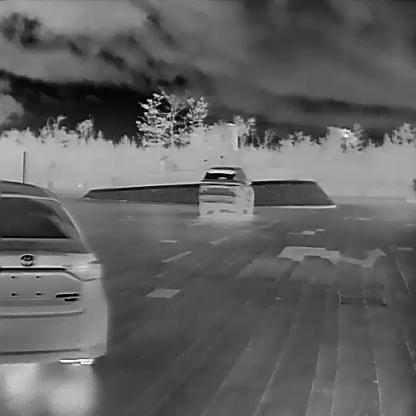car: (0, 179, 107, 364), (196, 165, 254, 216)
